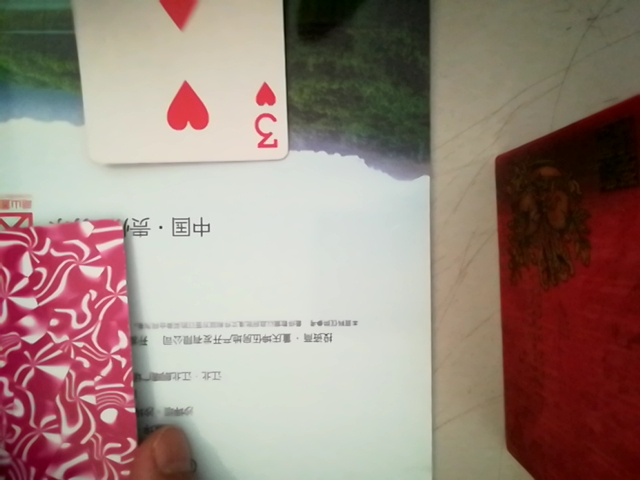hx 3: (63, 0, 294, 166)
